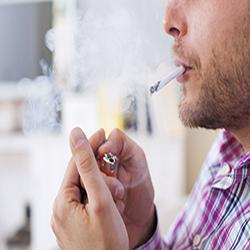smoking: (132, 50, 198, 99)
